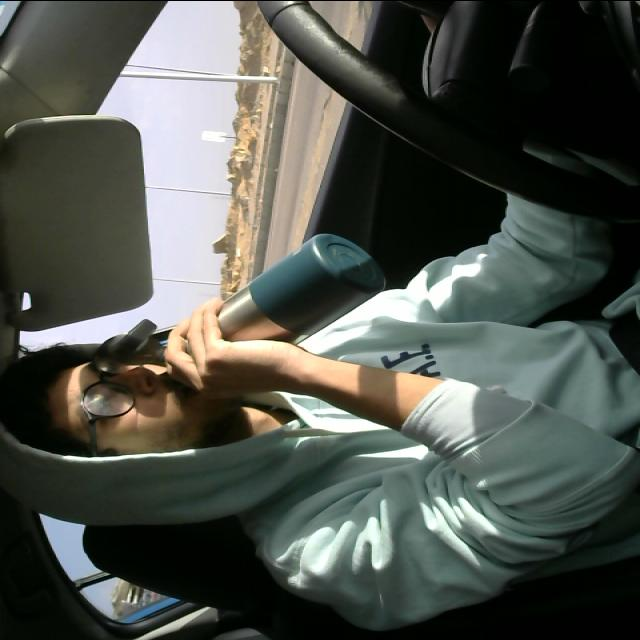drinking: (154, 230, 386, 388)
